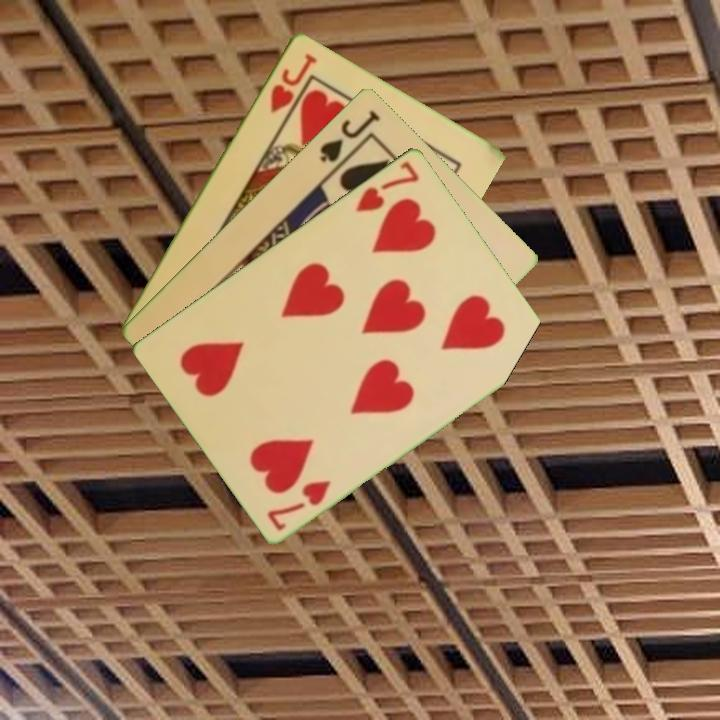7h: (351, 156, 422, 215), (263, 475, 335, 533)
Jh: (266, 49, 320, 116)
Js: (316, 106, 383, 166)
